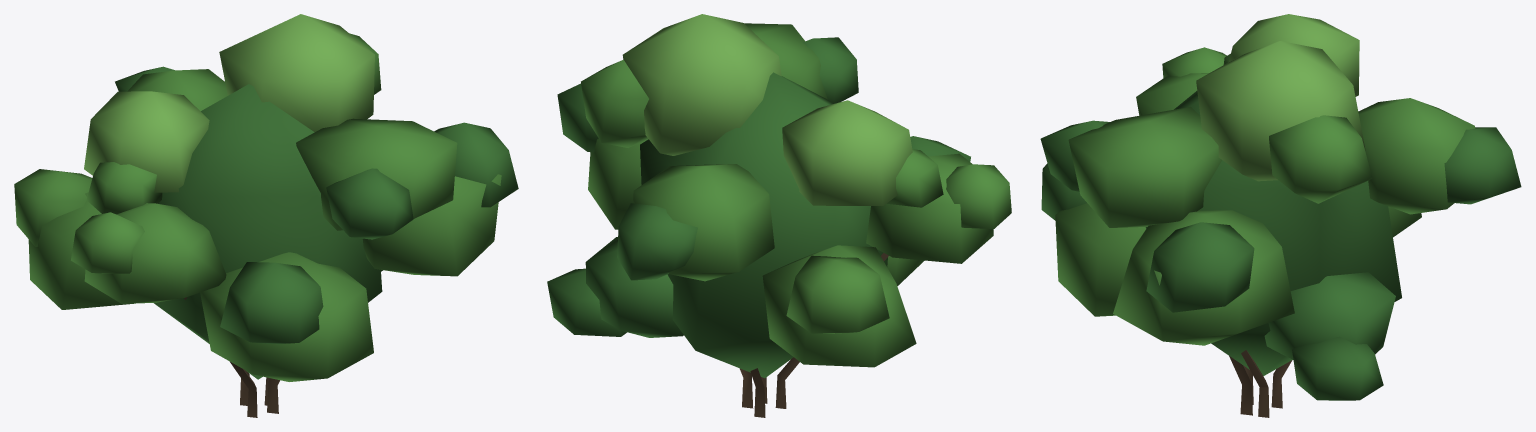
The model's file is bushSmall.far.glb.
3 renders of one model, left to right at view 1: azimuth 30°, elevation 25°; view 2: azimuth 150°, elevation 25°; view 3: azimuth 270°, elevation 25°, orthographic. The views are drawn at different scales.
Parts seen in each view (by area): view 1: bushSmall; view 2: bushSmall; view 3: bushSmall.
Boxes of the visible parts, x1=… form: bushSmall: x1=14, y1=14, x2=518, y2=417; bushSmall: x1=547, y1=14, x2=1011, y2=417; bushSmall: x1=1040, y1=14, x2=1521, y2=417.
Bounding box in the file's own units: 0.832 × 0.707 × 0.782.
